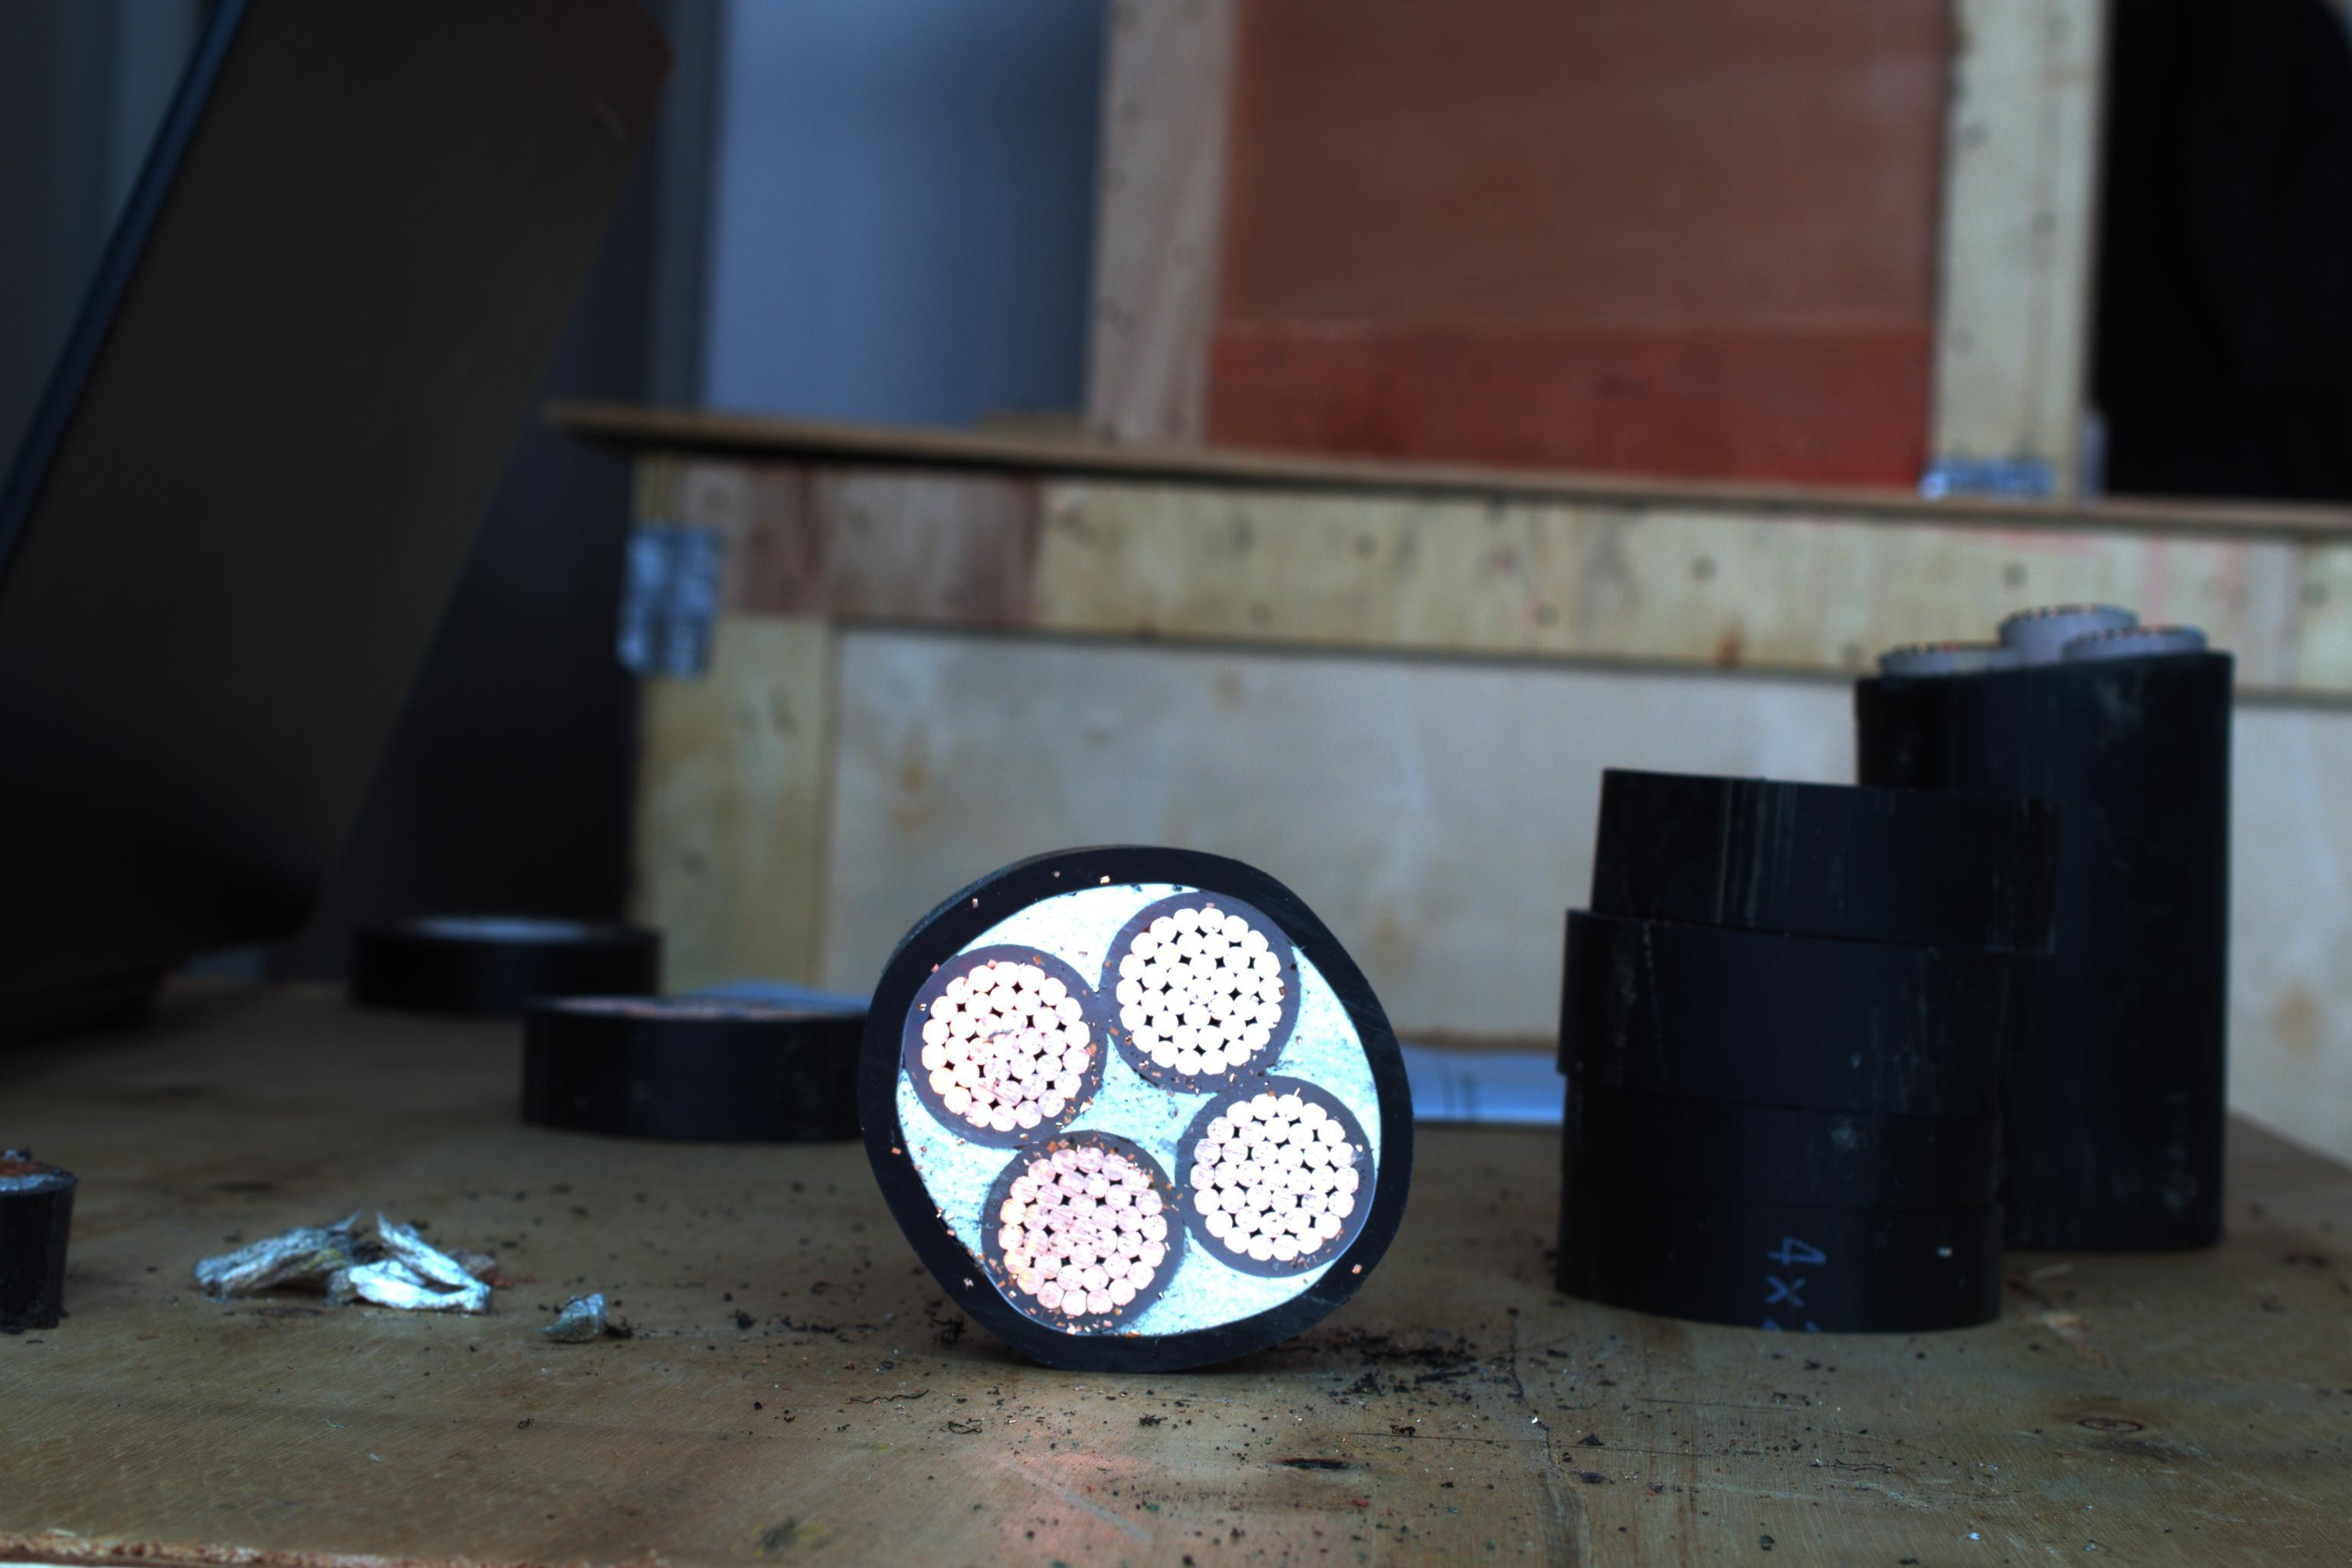YJV_0.6_1kV_4x240: (870, 850, 1414, 1358)
